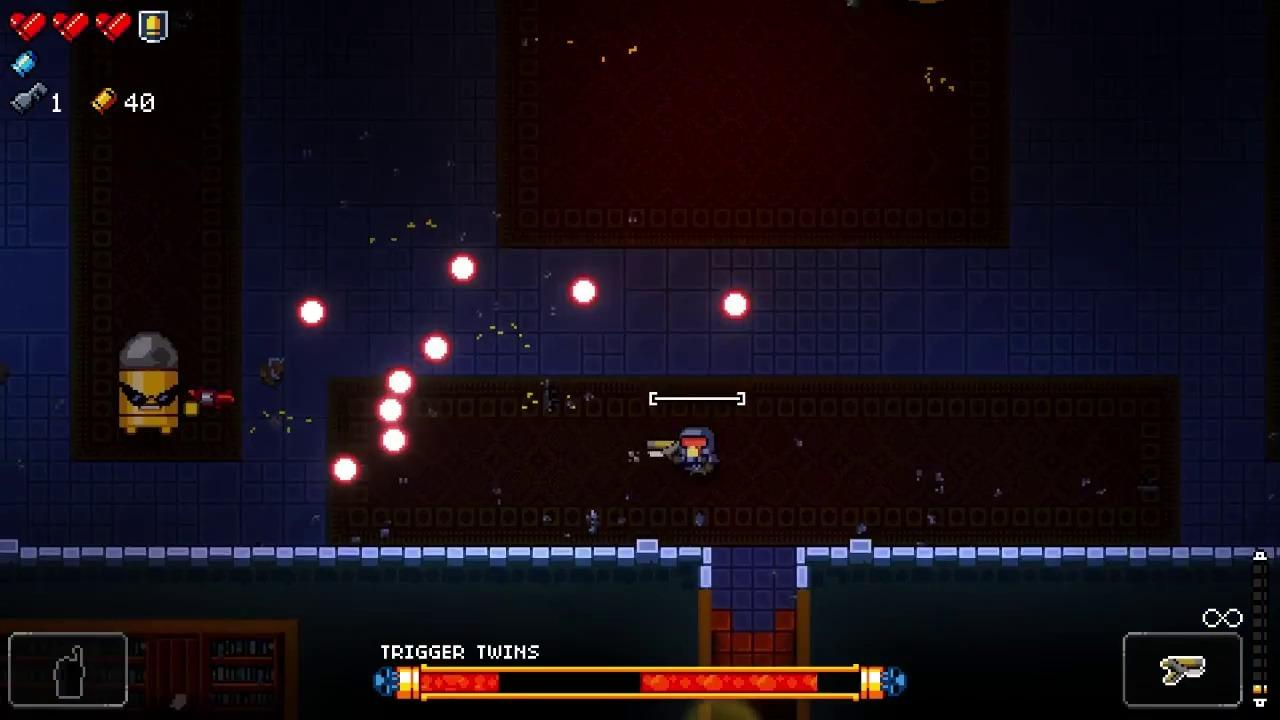boss_shades: (117, 328, 180, 435)
bullet: (296, 298, 329, 330), (447, 253, 479, 284), (420, 334, 453, 364), (719, 290, 751, 320), (379, 426, 409, 456), (375, 395, 405, 425), (331, 455, 359, 484), (387, 370, 417, 395), (571, 277, 597, 305)
player: (674, 429, 718, 479)
